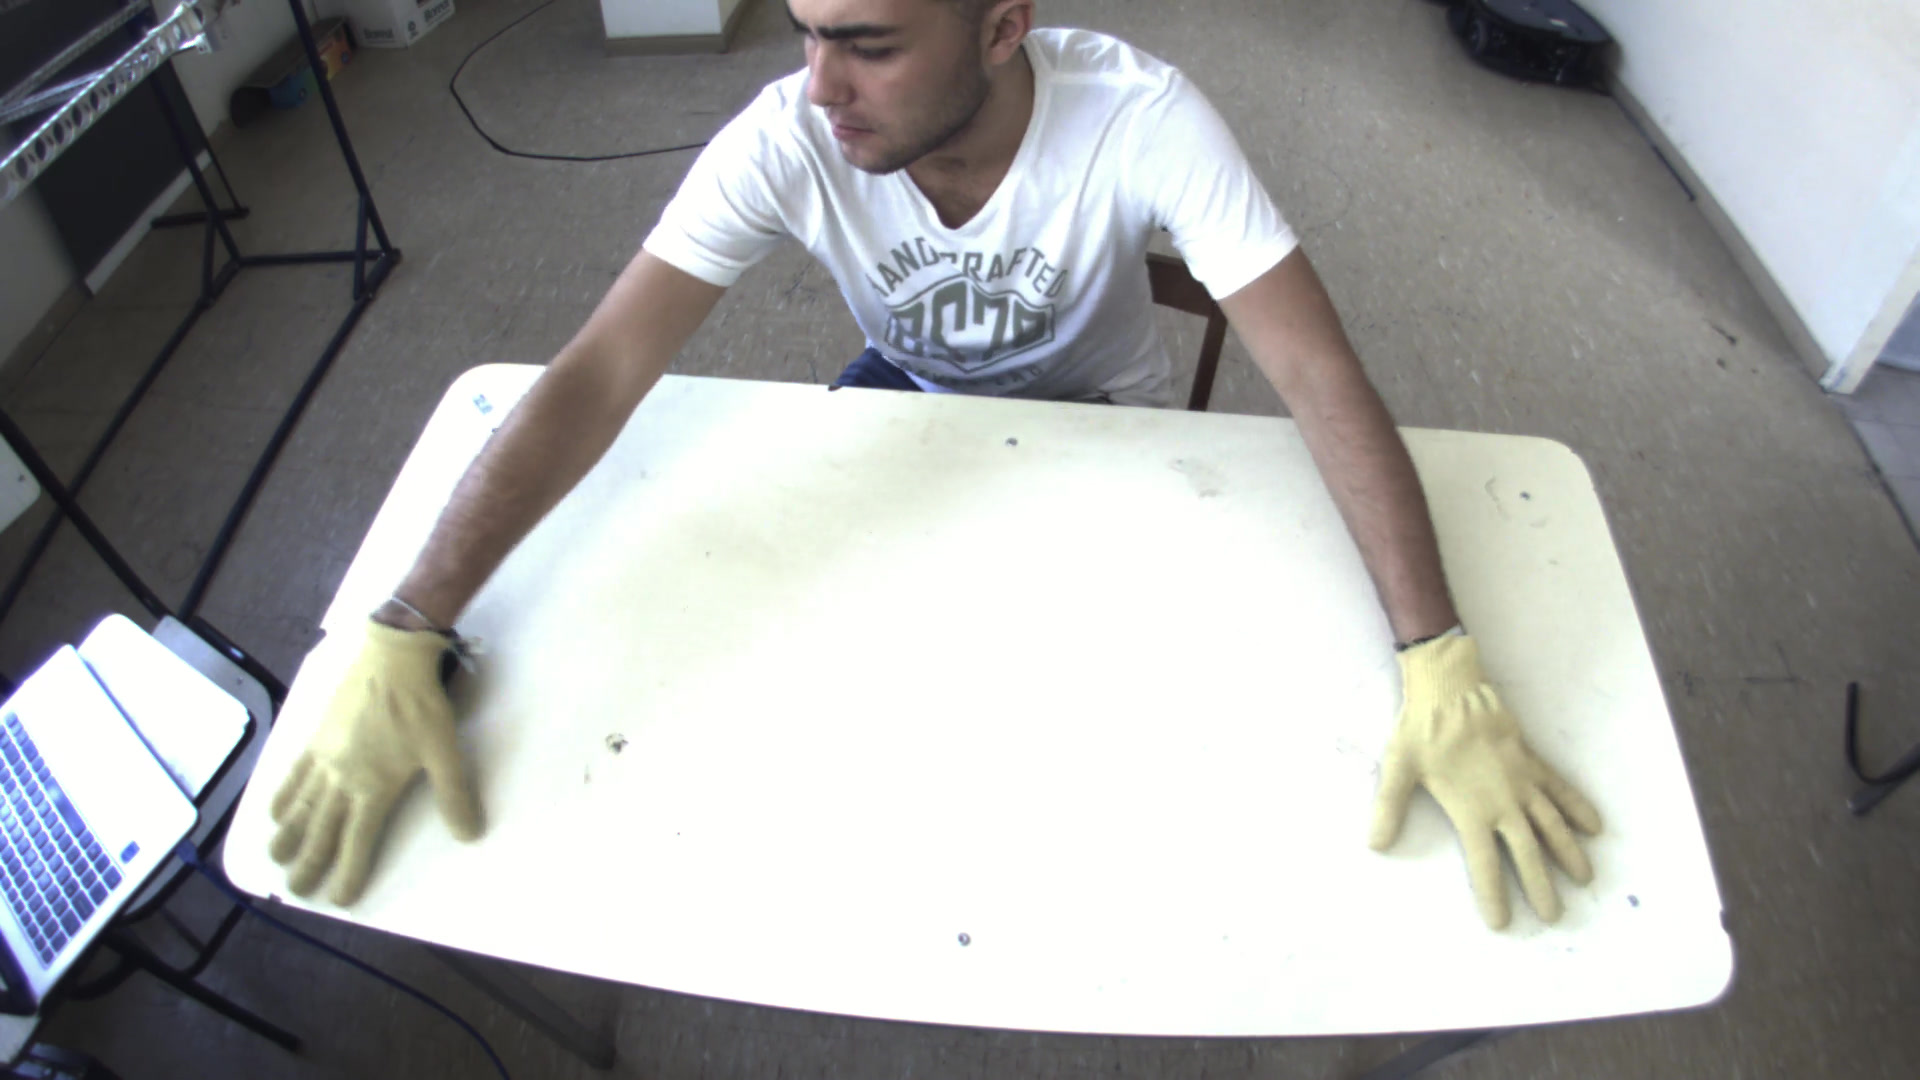hand: (1366, 629, 1627, 942), (244, 603, 495, 918)
